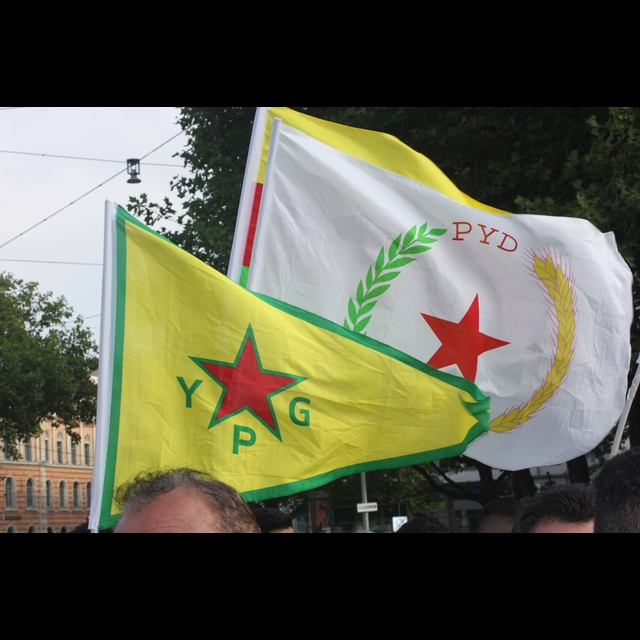PYD: (339, 193, 579, 422)
YPG: (156, 315, 340, 466)
